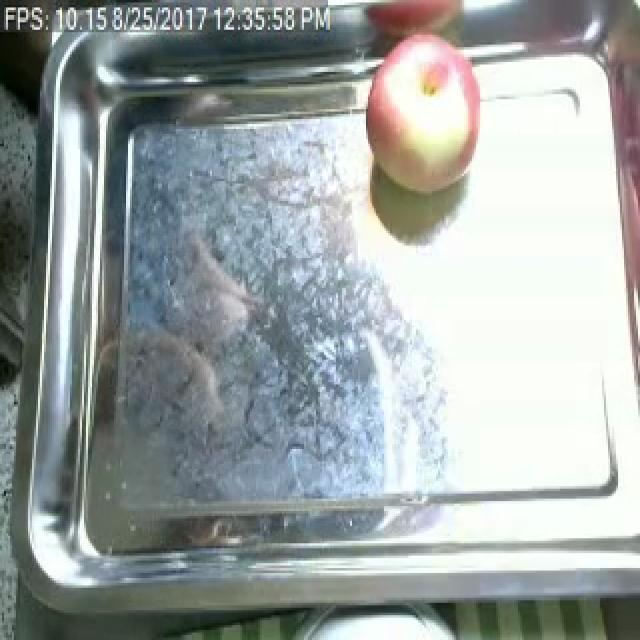apple: (337, 12, 508, 219)
